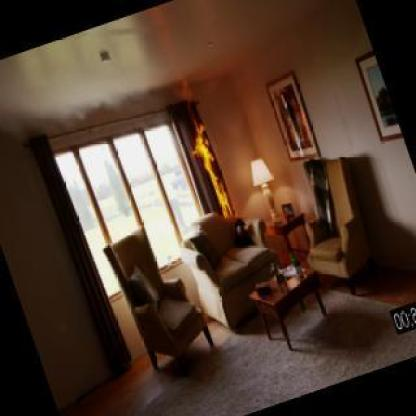Fire: (190, 115, 233, 219)
